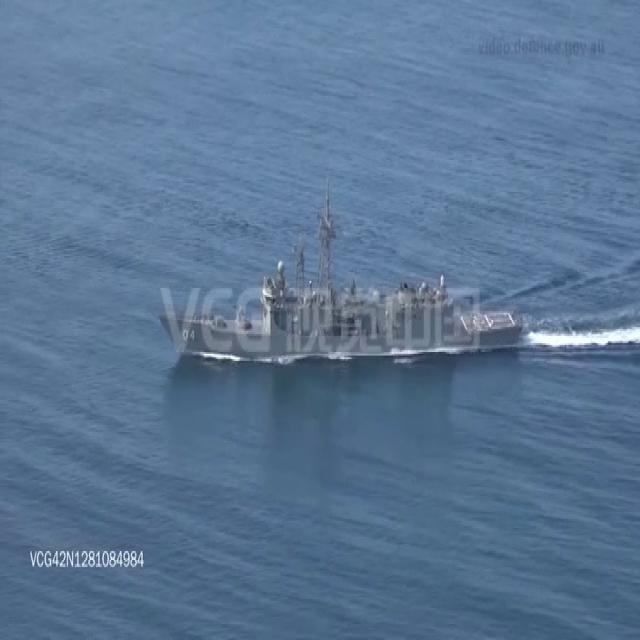navalvessels: (158, 200, 522, 366)
